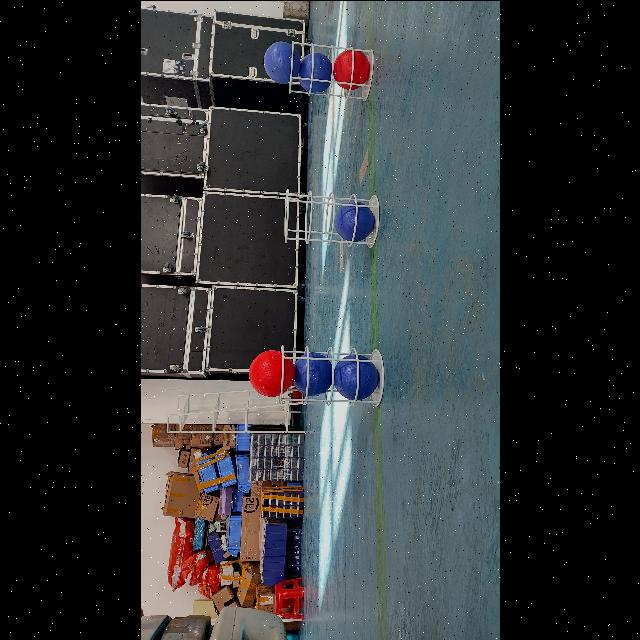B: (332, 353, 378, 399), (292, 352, 332, 396), (335, 200, 375, 240), (262, 41, 300, 83), (298, 52, 332, 92)
R: (250, 350, 296, 398), (331, 48, 369, 88)
S: (276, 342, 386, 412), (282, 187, 383, 250), (286, 36, 376, 98)
